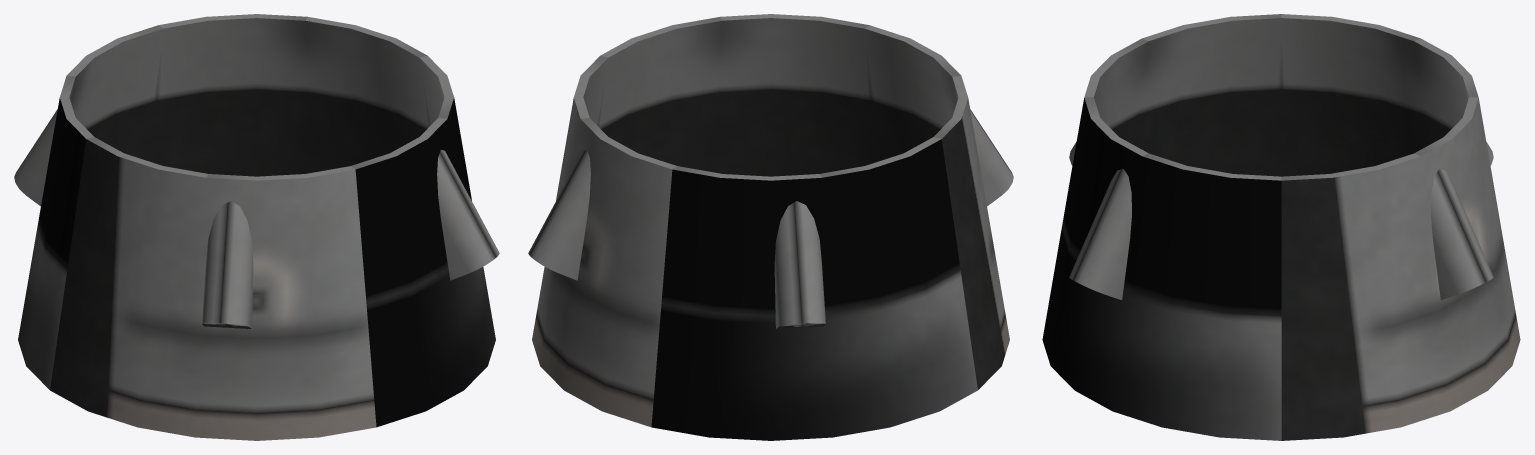
Rendered from Arrow_Engine_0p5_1_Fairing.obj.
The picture shows the model from 3 angles, left to right: view 1: azimuth 30°, elevation 25°; view 2: azimuth 150°, elevation 25°; view 3: azimuth 270°, elevation 25°; orthographic projection.
Visible parts, largest first — view 1: Arrow_Engine_0p5_1_Fairing; view 2: Arrow_Engine_0p5_1_Fairing; view 3: Arrow_Engine_0p5_1_Fairing.
Boxes of the visible parts, bbox=[...] form: Arrow_Engine_0p5_1_Fairing: bbox=[14, 14, 499, 440]; Arrow_Engine_0p5_1_Fairing: bbox=[528, 14, 1013, 440]; Arrow_Engine_0p5_1_Fairing: bbox=[1042, 14, 1520, 440].
Bounding box in the file's own units: 1.25 × 0.7 × 1.25.
